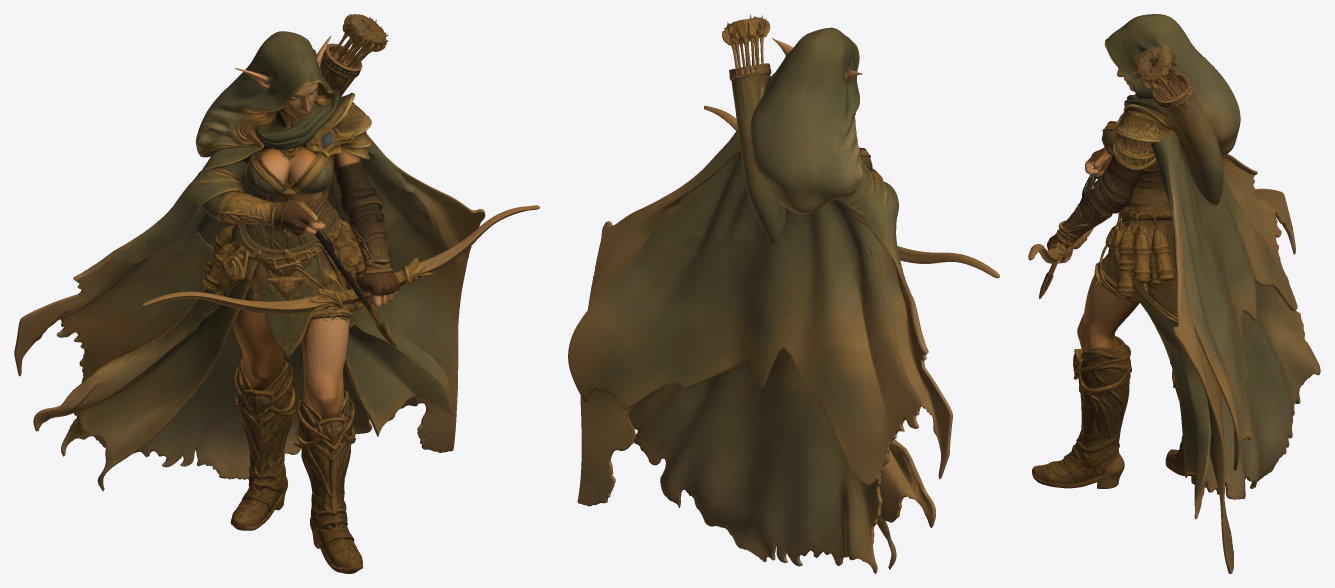
Rendered from elf_ranger_full_female_01.glb.
The picture shows the model from 3 angles, left to right: view 1: azimuth 30°, elevation 25°; view 2: azimuth 150°, elevation 25°; view 3: azimuth 270°, elevation 25°; orthographic projection. The views are drawn at different scales.
Visible parts, largest first — view 1: material; view 2: material; view 3: material.
Boxes of the visible parts, box(x1,y1,x2,y2) form: material: box(14, 14, 539, 573); material: box(568, 14, 999, 573); material: box(1028, 14, 1320, 573).
Size of the model in its own units: 0.7914 by 0.9092 by 0.5176.
Materials: 1 (1 with a texture image).
